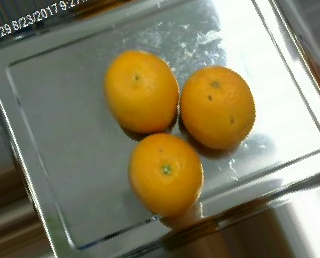Orange: (179, 65, 256, 152), (103, 49, 179, 134), (129, 131, 203, 217)
